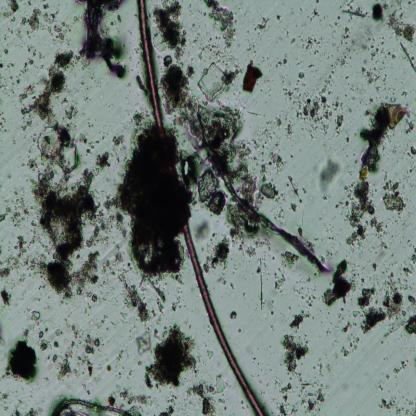Air bubble: (252, 238, 272, 253), (371, 3, 385, 21)
Background material: (109, 116, 190, 275), (28, 164, 101, 300), (180, 95, 257, 202), (144, 317, 199, 393), (344, 168, 392, 253), (358, 98, 409, 173), (52, 316, 104, 382), (282, 85, 344, 136), (21, 66, 67, 124), (157, 53, 198, 116), (153, 0, 188, 61), (38, 124, 82, 172), (280, 375, 328, 416), (194, 60, 240, 102), (0, 337, 38, 385), (118, 272, 150, 324), (226, 202, 259, 250), (319, 259, 351, 308), (204, 0, 236, 47), (196, 168, 224, 215), (280, 332, 311, 374), (202, 229, 229, 275), (186, 381, 220, 416), (42, 10, 74, 46), (3, 186, 30, 227), (381, 271, 403, 321), (238, 59, 269, 94), (22, 303, 52, 338), (382, 172, 405, 216), (388, 9, 416, 43), (0, 255, 28, 288), (319, 154, 341, 194), (51, 49, 90, 70), (252, 119, 276, 153), (379, 394, 416, 416), (146, 277, 166, 316), (95, 210, 116, 247), (340, 320, 361, 356), (112, 342, 134, 376), (360, 306, 385, 335), (361, 66, 388, 92), (120, 387, 151, 409), (403, 248, 416, 294), (362, 26, 379, 61), (399, 42, 416, 74), (286, 175, 304, 205), (100, 259, 115, 293), (287, 309, 311, 330), (0, 71, 21, 95), (213, 47, 236, 68), (356, 286, 376, 310), (130, 104, 150, 128), (258, 183, 283, 202), (0, 0, 20, 22), (212, 373, 232, 395), (136, 333, 155, 356), (92, 148, 113, 168), (274, 197, 287, 229), (160, 393, 178, 416), (258, 255, 265, 311), (342, 5, 368, 20), (28, 4, 42, 31), (269, 150, 286, 172), (280, 250, 300, 268), (197, 43, 216, 61), (304, 34, 322, 53), (384, 320, 402, 338), (14, 234, 28, 257), (19, 83, 35, 103), (273, 269, 286, 293), (182, 156, 194, 182), (402, 312, 416, 334), (62, 105, 81, 121), (136, 74, 150, 95), (340, 46, 354, 66), (0, 287, 13, 308), (254, 15, 270, 31), (230, 260, 246, 276), (392, 359, 409, 374), (111, 133, 125, 150), (302, 291, 316, 307), (242, 242, 256, 258), (0, 389, 10, 411), (15, 28, 26, 48), (328, 20, 340, 38), (26, 157, 41, 171), (0, 112, 10, 133), (24, 406, 44, 416), (339, 26, 350, 44), (170, 273, 186, 285), (96, 312, 107, 329), (39, 338, 53, 351), (85, 290, 99, 303), (349, 272, 359, 290), (26, 42, 38, 56), (405, 119, 416, 134), (140, 273, 148, 293), (323, 248, 335, 261), (11, 404, 24, 416), (295, 275, 312, 284), (317, 357, 325, 376), (325, 72, 335, 87), (408, 156, 416, 174), (191, 33, 203, 45), (20, 119, 32, 131), (172, 297, 183, 310), (119, 310, 129, 324), (406, 294, 416, 308), (77, 132, 88, 144), (0, 323, 6, 344), (260, 159, 266, 180), (296, 224, 305, 238), (20, 62, 29, 75), (337, 307, 344, 323), (274, 57, 283, 68), (311, 7, 320, 18), (376, 380, 384, 392), (219, 396, 227, 408), (208, 348, 216, 360), (228, 310, 237, 320), (379, 0, 389, 9), (21, 16, 30, 26), (276, 117, 284, 128), (291, 201, 298, 213), (348, 262, 356, 272), (327, 233, 337, 241), (396, 0, 404, 9), (133, 45, 141, 54), (372, 259, 378, 271), (273, 380, 282, 388), (6, 61, 14, 70), (6, 26, 14, 35), (60, 98, 70, 105), (292, 288, 302, 295), (89, 71, 96, 81), (351, 36, 358, 46), (109, 298, 117, 306), (408, 243, 416, 251), (335, 201, 343, 209), (352, 310, 360, 318), (401, 219, 409, 227), (9, 15, 16, 24), (348, 83, 355, 92), (129, 324, 136, 333), (26, 56, 33, 65), (88, 139, 94, 149), (411, 145, 416, 157), (344, 0, 354, 6), (378, 250, 384, 260), (116, 14, 122, 24), (32, 132, 37, 144), (388, 86, 395, 94), (400, 90, 408, 97), (262, 55, 269, 63), (274, 138, 281, 146), (298, 71, 305, 79), (71, 16, 79, 23), (125, 80, 132, 88), (26, 30, 32, 39), (301, 184, 307, 193), (177, 286, 183, 295), (281, 74, 287, 83), (326, 326, 331, 336), (78, 79, 85, 86), (386, 48, 392, 56), (312, 47, 318, 55), (151, 310, 157, 318), (296, 60, 304, 66), (84, 95, 90, 103), (106, 364, 112, 372), (363, 58, 369, 66), (379, 46, 384, 55), (242, 290, 247, 299), (345, 135, 350, 144), (382, 144, 386, 155), (350, 95, 357, 101), (334, 46, 340, 53), (22, 289, 28, 296), (0, 214, 6, 221), (88, 120, 94, 127), (332, 340, 338, 347), (360, 279, 366, 286), (392, 218, 399, 224), (270, 324, 276, 331), (86, 147, 92, 154), (246, 46, 253, 52), (400, 152, 406, 159), (334, 325, 340, 332), (137, 358, 142, 366), (374, 298, 379, 306), (258, 390, 266, 395), (391, 52, 396, 60), (408, 0, 416, 5), (0, 244, 3, 257), (322, 196, 328, 202), (86, 303, 92, 309), (276, 35, 282, 41), (44, 376, 50, 382), (329, 62, 335, 68), (308, 62, 314, 68), (307, 15, 313, 21), (384, 267, 390, 273), (43, 4, 49, 10), (132, 12, 138, 18), (277, 14, 282, 21), (367, 98, 372, 105), (27, 0, 32, 7), (291, 36, 295, 44), (386, 372, 390, 380), (335, 57, 339, 65), (4, 33, 8, 41), (390, 3, 396, 8), (270, 299, 276, 304), (301, 82, 306, 88), (37, 285, 43, 290), (229, 283, 235, 288), (390, 96, 395, 102), (292, 100, 298, 105), (392, 261, 398, 266), (36, 297, 42, 302), (286, 29, 290, 36), (86, 389, 90, 396), (402, 310, 406, 317), (383, 356, 388, 361), (270, 310, 275, 315), (332, 42, 337, 47), (46, 354, 51, 359), (396, 214, 401, 219), (318, 56, 322, 62), (290, 153, 294, 159), (362, 267, 366, 273), (408, 211, 412, 217), (413, 358, 416, 366), (100, 298, 106, 302), (405, 102, 408, 110), (344, 128, 348, 134), (257, 31, 261, 37), (252, 357, 256, 363), (312, 364, 316, 370), (192, 22, 196, 28), (240, 398, 244, 404), (18, 297, 24, 301), (348, 107, 352, 113), (354, 158, 358, 164), (301, 40, 304, 48), (318, 18, 322, 24), (407, 152, 411, 158), (18, 399, 22, 405), (4, 48, 8, 54), (381, 59, 385, 65), (38, 52, 42, 58), (411, 54, 414, 61), (266, 382, 270, 387), (111, 322, 116, 326), (319, 321, 324, 325), (399, 13, 403, 18), (337, 15, 341, 20), (412, 182, 416, 187), (332, 69, 336, 74), (84, 308, 87, 314), (368, 275, 371, 281), (102, 135, 105, 141), (0, 62, 3, 68), (344, 93, 348, 97), (238, 328, 242, 332), (380, 341, 384, 345), (256, 374, 260, 378), (345, 76, 349, 80), (283, 60, 287, 64), (352, 152, 356, 156), (326, 55, 330, 59), (358, 39, 362, 43), (326, 311, 330, 315), (302, 23, 307, 26), (314, 271, 317, 276), (286, 23, 289, 28), (244, 11, 247, 16), (399, 240, 402, 244), (259, 37, 262, 41), (381, 42, 385, 45), (323, 16, 326, 20), (295, 24, 298, 28), (269, 367, 272, 371), (285, 52, 287, 58), (382, 36, 385, 40), (406, 240, 409, 244), (400, 263, 403, 267), (354, 133, 357, 137), (96, 140, 99, 144), (268, 345, 272, 348), (273, 255, 276, 259), (375, 60, 378, 64), (247, 29, 250, 33), (316, 0, 319, 4), (299, 7, 302, 11), (289, 305, 291, 310), (392, 252, 394, 257), (315, 68, 317, 73), (348, 19, 350, 24), (297, 80, 300, 83), (367, 260, 370, 263), (106, 327, 109, 330), (257, 362, 260, 365), (355, 51, 358, 54), (324, 52, 327, 55), (268, 69, 271, 72), (313, 75, 316, 78), (339, 5, 342, 8), (379, 36, 381, 40), (258, 62, 260, 66), (411, 184, 413, 188), (312, 316, 314, 320), (375, 251, 377, 254), (381, 272, 384, 274), (299, 35, 301, 38), (270, 64, 272, 67), (399, 273, 402, 275), (296, 83, 298, 86), (283, 27, 285, 30), (375, 0, 378, 2), (354, 48, 355, 52), (332, 54, 334, 56), (346, 155, 348, 157), (403, 236, 405, 238), (385, 56, 387, 58), (306, 9, 307, 11)
Cellulose filter fibre: (202, 132, 329, 271), (72, 0, 128, 75), (51, 396, 142, 416)
Microfibre: (137, 0, 264, 416)
